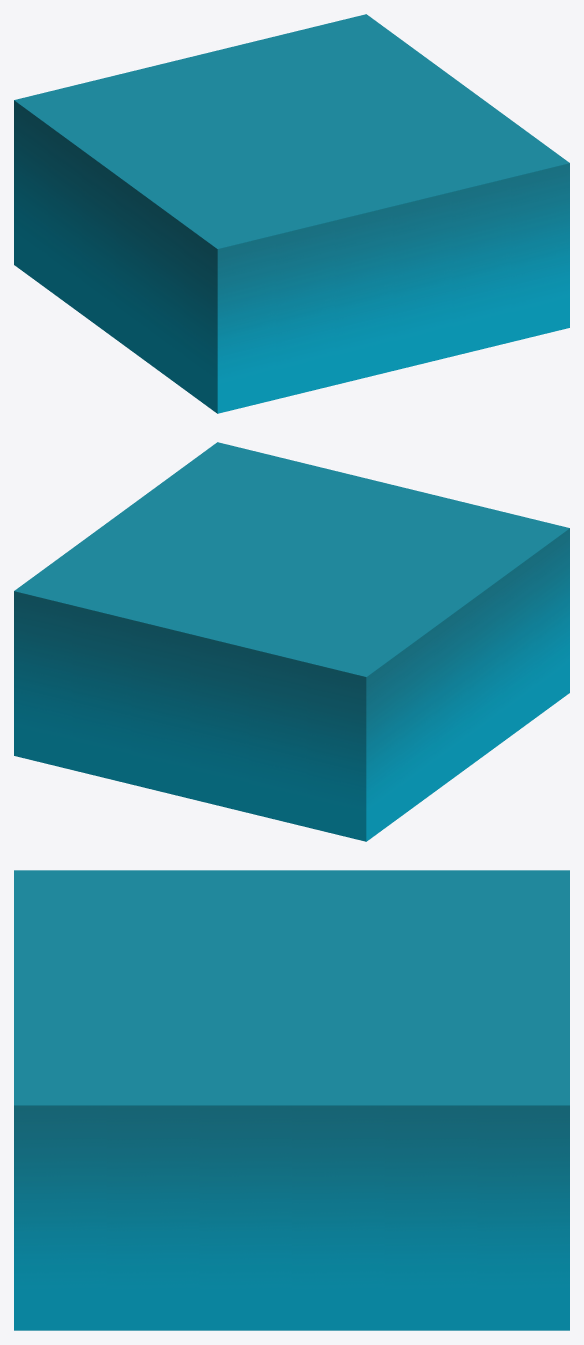
File: skybox_test3.FBX
The picture shows the model from 3 angles, top to bottom: view 1: azimuth 30°, elevation 25°; view 2: azimuth 150°, elevation 25°; view 3: azimuth 270°, elevation 25°; orthographic projection. The views are drawn at different scales.
Parts seen in each view (by area): view 1: Techo, Cielo_3, Cielo_4; view 2: Techo, Cielo_1, Cielo_4; view 3: Techo, Cielo_2.
Part boxes in pixels (left/top/right/bottom): Techo: left=14, top=14, right=569, bottom=248; Cielo_3: left=217, top=163, right=569, bottom=413; Cielo_4: left=14, top=100, right=217, bottom=413; Techo: left=14, top=442, right=569, bottom=676; Cielo_1: left=14, top=591, right=366, bottom=841; Cielo_4: left=366, top=528, right=569, bottom=841; Techo: left=14, top=870, right=569, bottom=1105; Cielo_2: left=14, top=1105, right=569, bottom=1330.
Bounding box in the file's own units: 100 × 54.09 × 100.
Materials: 4 (4 with a texture image).
